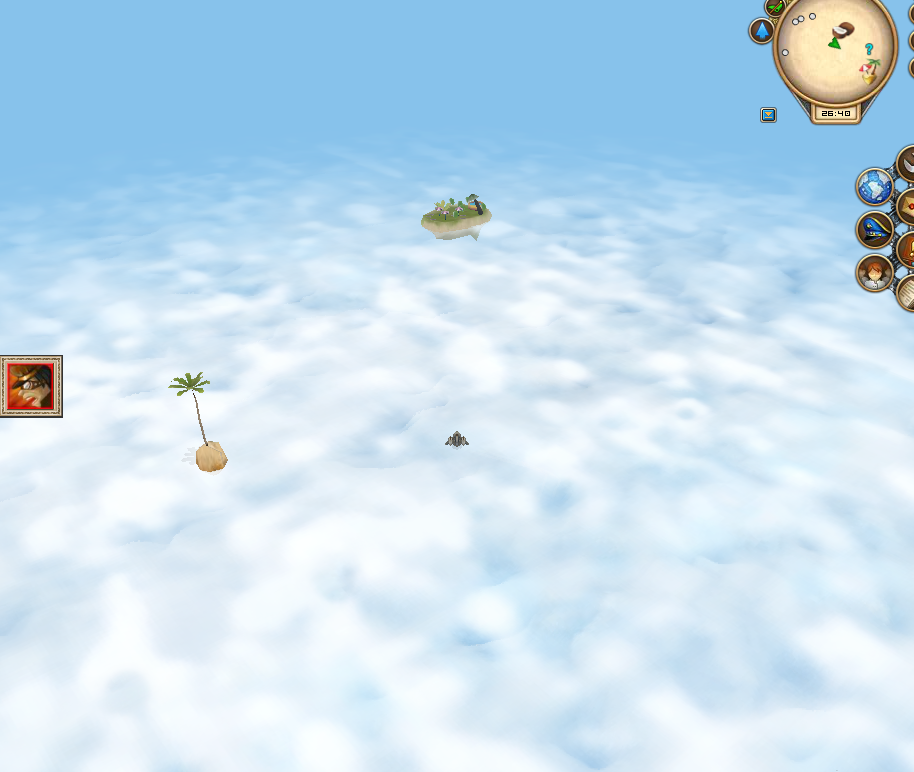palm: (165, 372, 232, 474)
